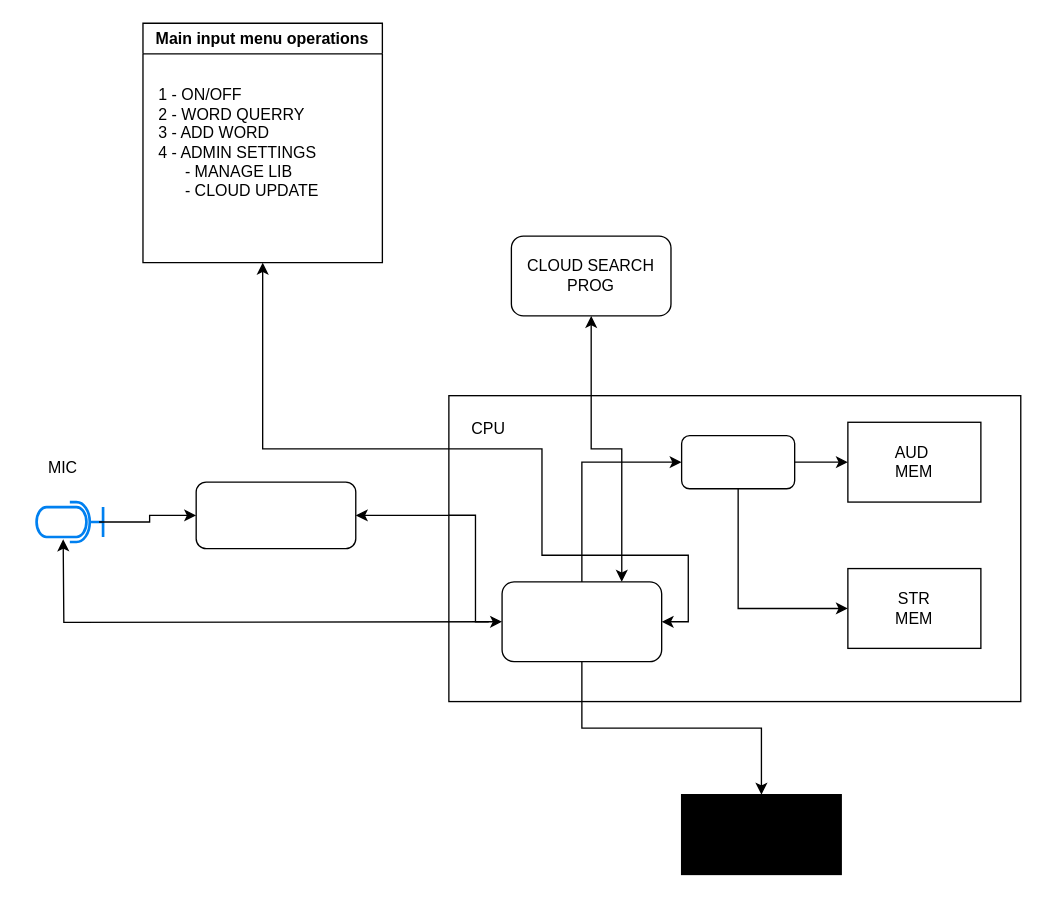
This 1044x898 diagram has some shape labels left out. The shapes that lost their labels are listed below. From the top down, each one's centre as x and y in pixels, then its label:
At point (737, 461): "RAM".
At point (275, 515): "AUDIO WAVE SYNTHESIZER".
At point (581, 621): "VOICE PROCESSOR".
